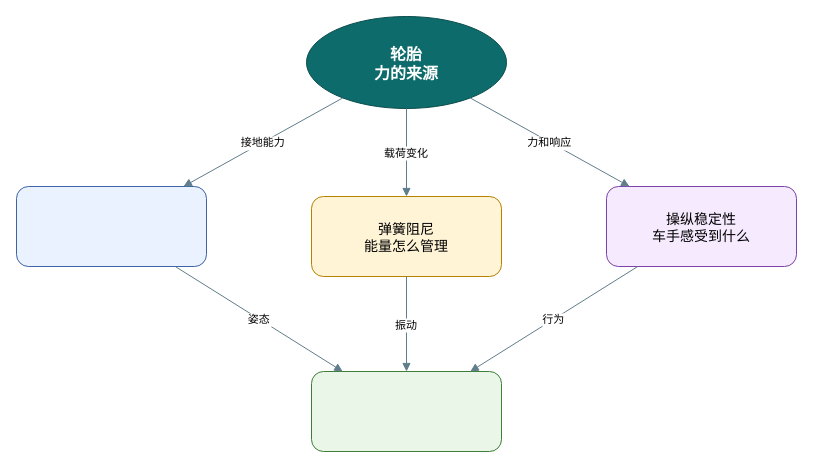
Some shapes in this 813 by 468 pixel diagram are drawn without their labels. Here are the shapes that lost their labels. From the top down, the centre of each, then its label:
At [111,226]: "几何 轮端怎么运动".
At [406,411]: "验证 计算/仿真/实车".
